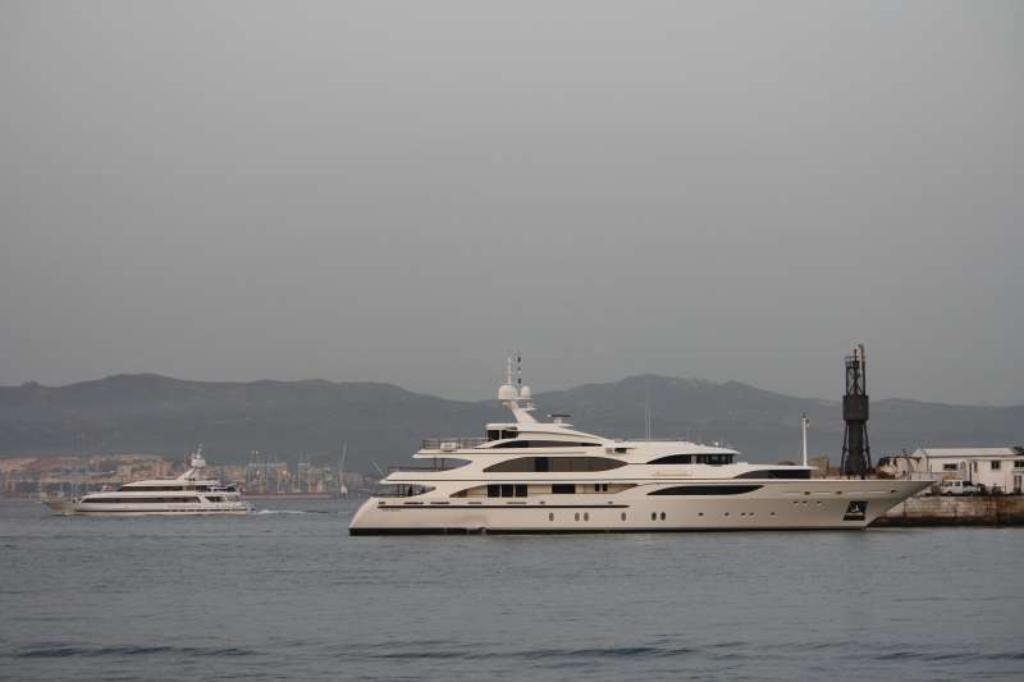PassengerShip: (335, 354, 943, 530), (36, 439, 256, 517)
